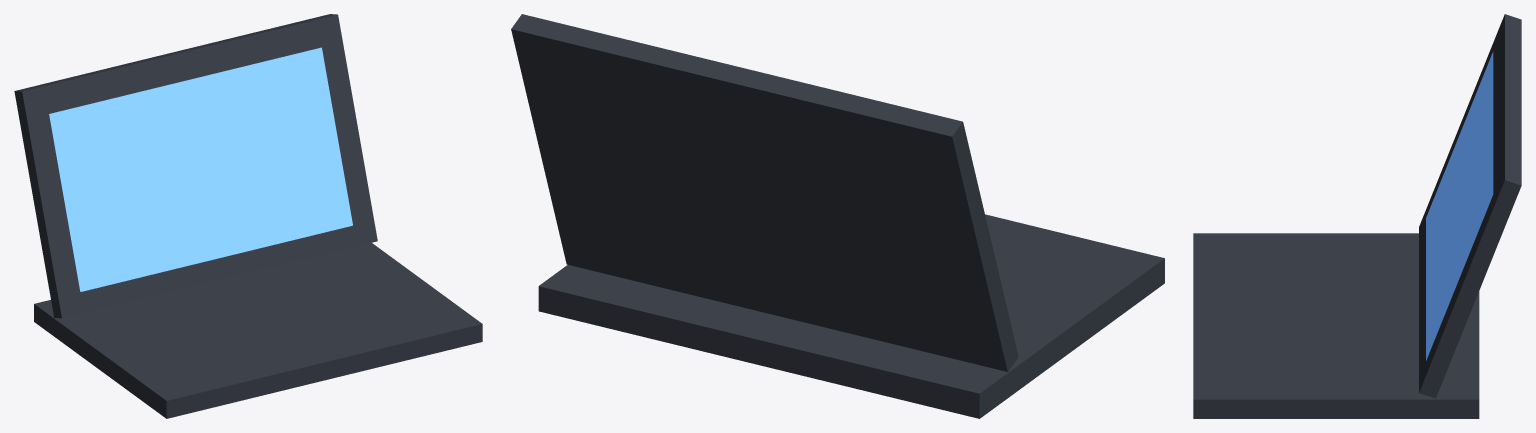
File: prop-laptop.glb
The picture shows the model from 3 angles, left to right: view 1: azimuth 30°, elevation 25°; view 2: azimuth 150°, elevation 25°; view 3: azimuth 270°, elevation 25°; orthographic projection. The views are drawn at different scales.
Visible parts, largest first — view 1: propVisual; view 2: propVisual; view 3: propVisual.
Part boxes in pixels (x1,y1,x2,y2): propVisual: (14,14,482,418); propVisual: (511,14,1164,418); propVisual: (1193,14,1521,418).
Bounding box in the file's own units: 0.22 × 0.1475 × 0.1837.
